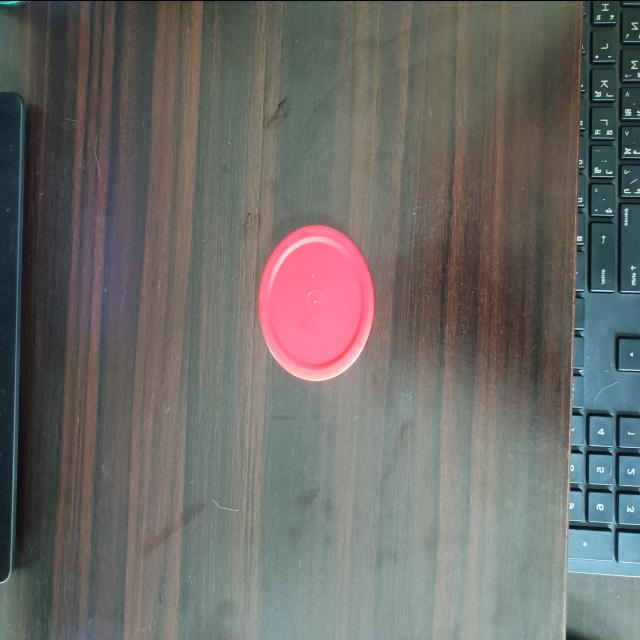chip: (258, 222, 376, 386)
